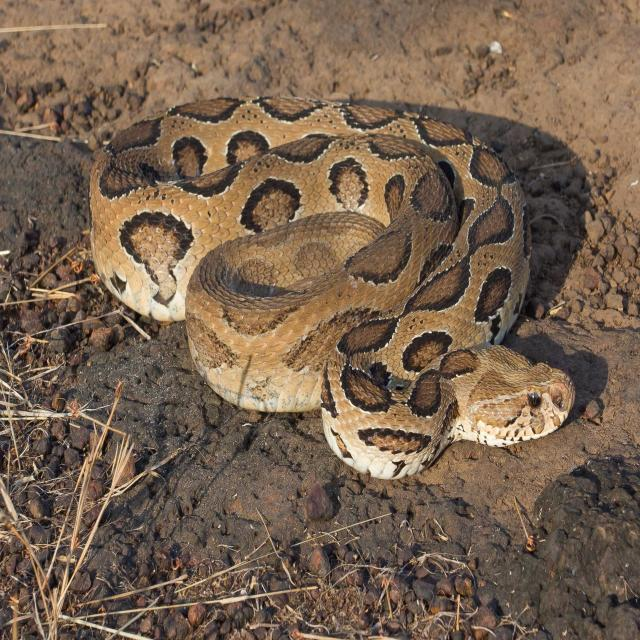Snake: (88, 94, 575, 480)
